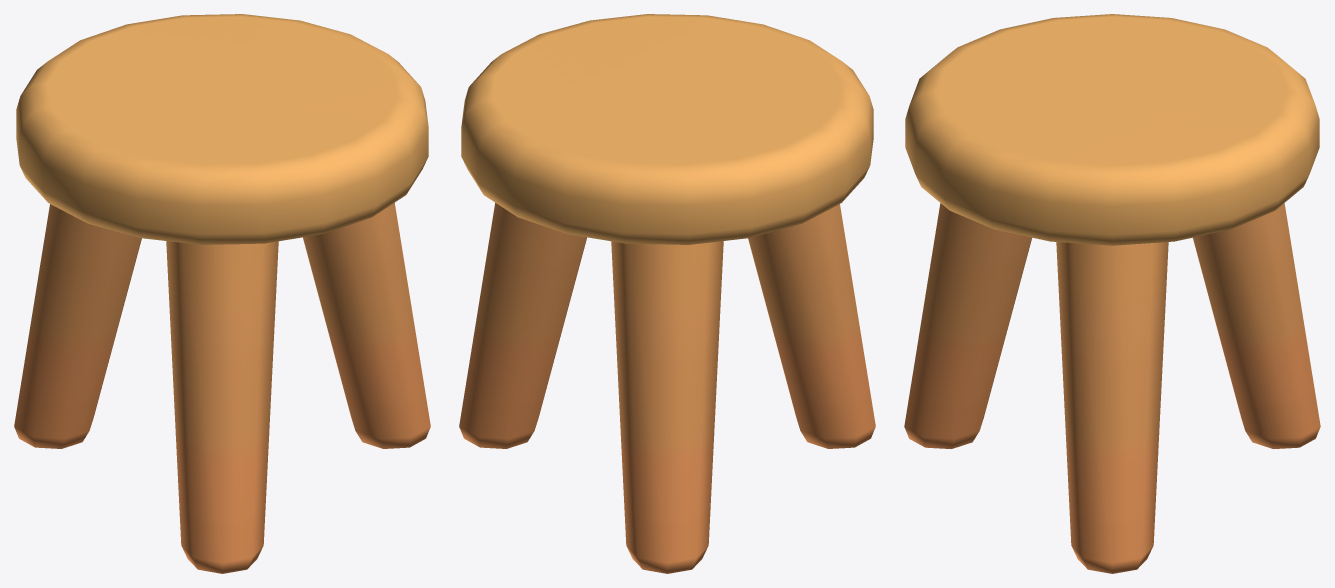
The model's file is Chair_18.glb.
3 views of the same model, side by side, from view 1: azimuth 30°, elevation 25°; view 2: azimuth 150°, elevation 25°; view 3: azimuth 270°, elevation 25° (orthographic).
Visible parts, largest first — view 1: Chair_18; view 2: Chair_18; view 3: Chair_18.
Part boxes in pixels (x1=…): Chair_18: x1=14, y1=14, x2=430, y2=573; Chair_18: x1=459, y1=14, x2=875, y2=573; Chair_18: x1=904, y1=14, x2=1320, y2=573.
Bounding box in the file's own units: 0.4488 × 0.437 × 0.422.
1 material, 1 textured.
